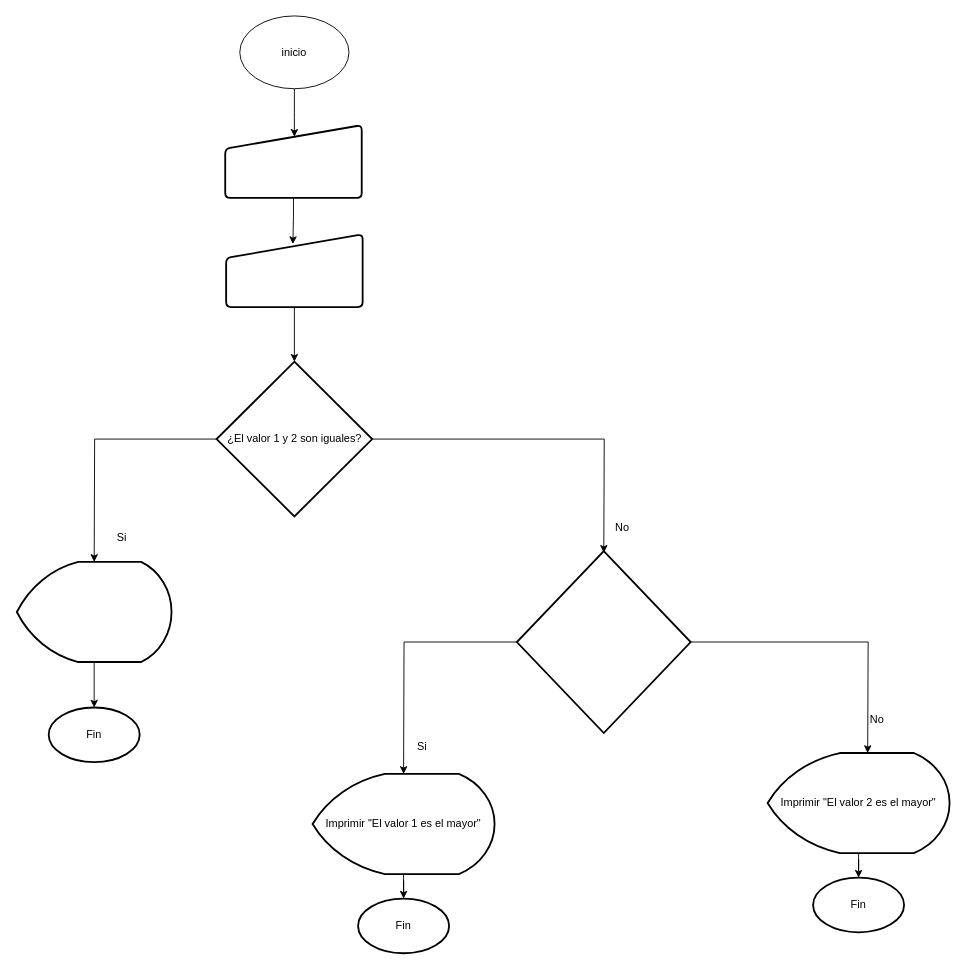
Image size: 966x970. Some labels were removed from this diagram. Here are the shapes that lost their labels. From the top down, the centre of each, then its label:
[293,161]: Ingrese el valor 1:
[294,270]: Ingrese el valor 2:
[93,611]: Imprimir "Los valores ingresados son iguales"
[603,641]: ¿El valor 1 es mayor al valor 2?
